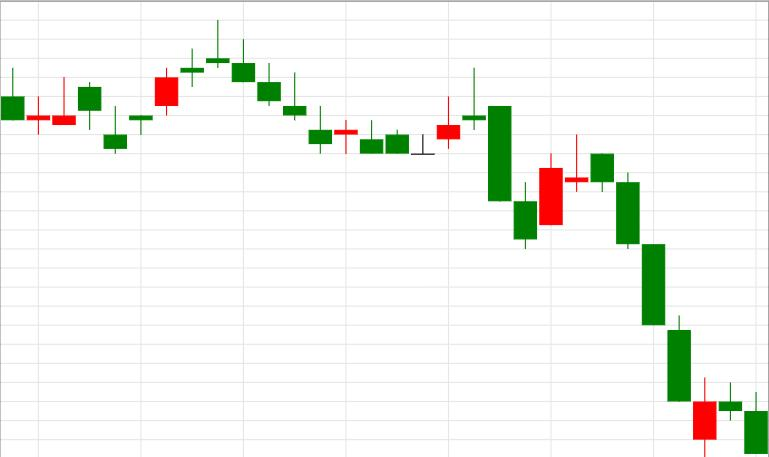three_black_crows_fall: (513, 134, 691, 402)
